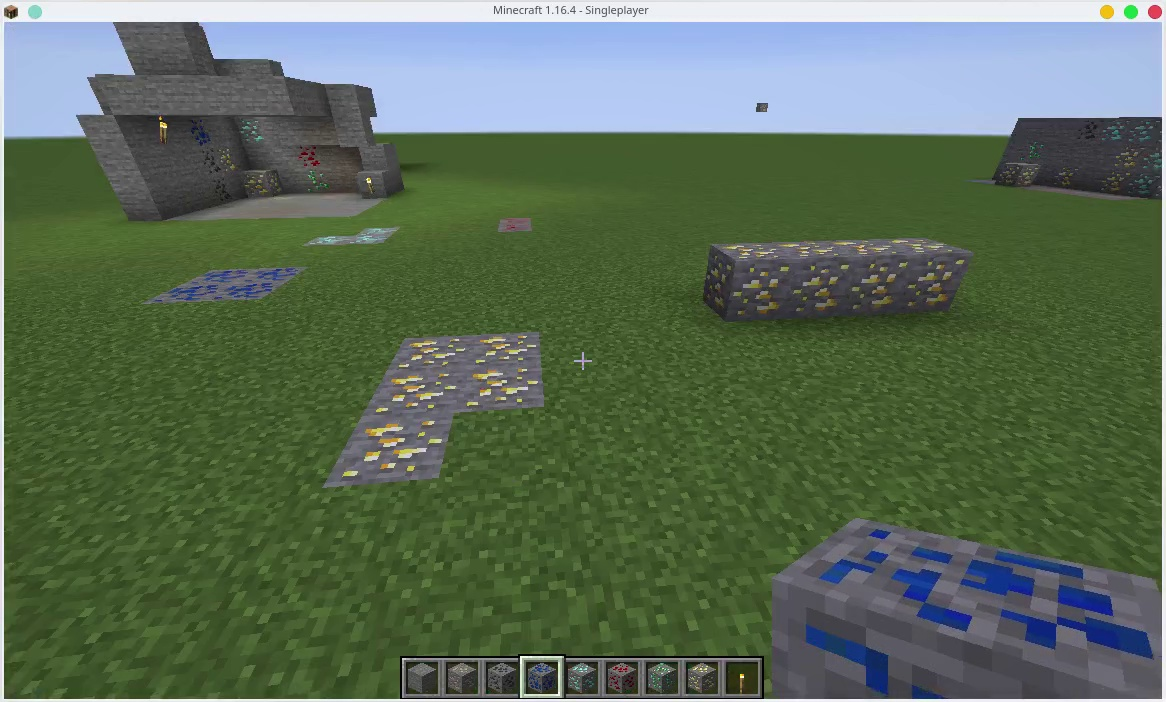gold: (840, 229, 907, 314), (709, 244, 784, 310), (350, 414, 433, 470), (907, 233, 959, 311), (790, 239, 839, 309), (473, 367, 543, 410), (387, 372, 458, 412), (478, 333, 550, 365), (410, 338, 466, 369), (999, 164, 1045, 194), (246, 166, 283, 194), (685, 665, 718, 695), (1100, 173, 1131, 195), (1054, 167, 1078, 191), (1115, 151, 1137, 174), (218, 148, 241, 168)
